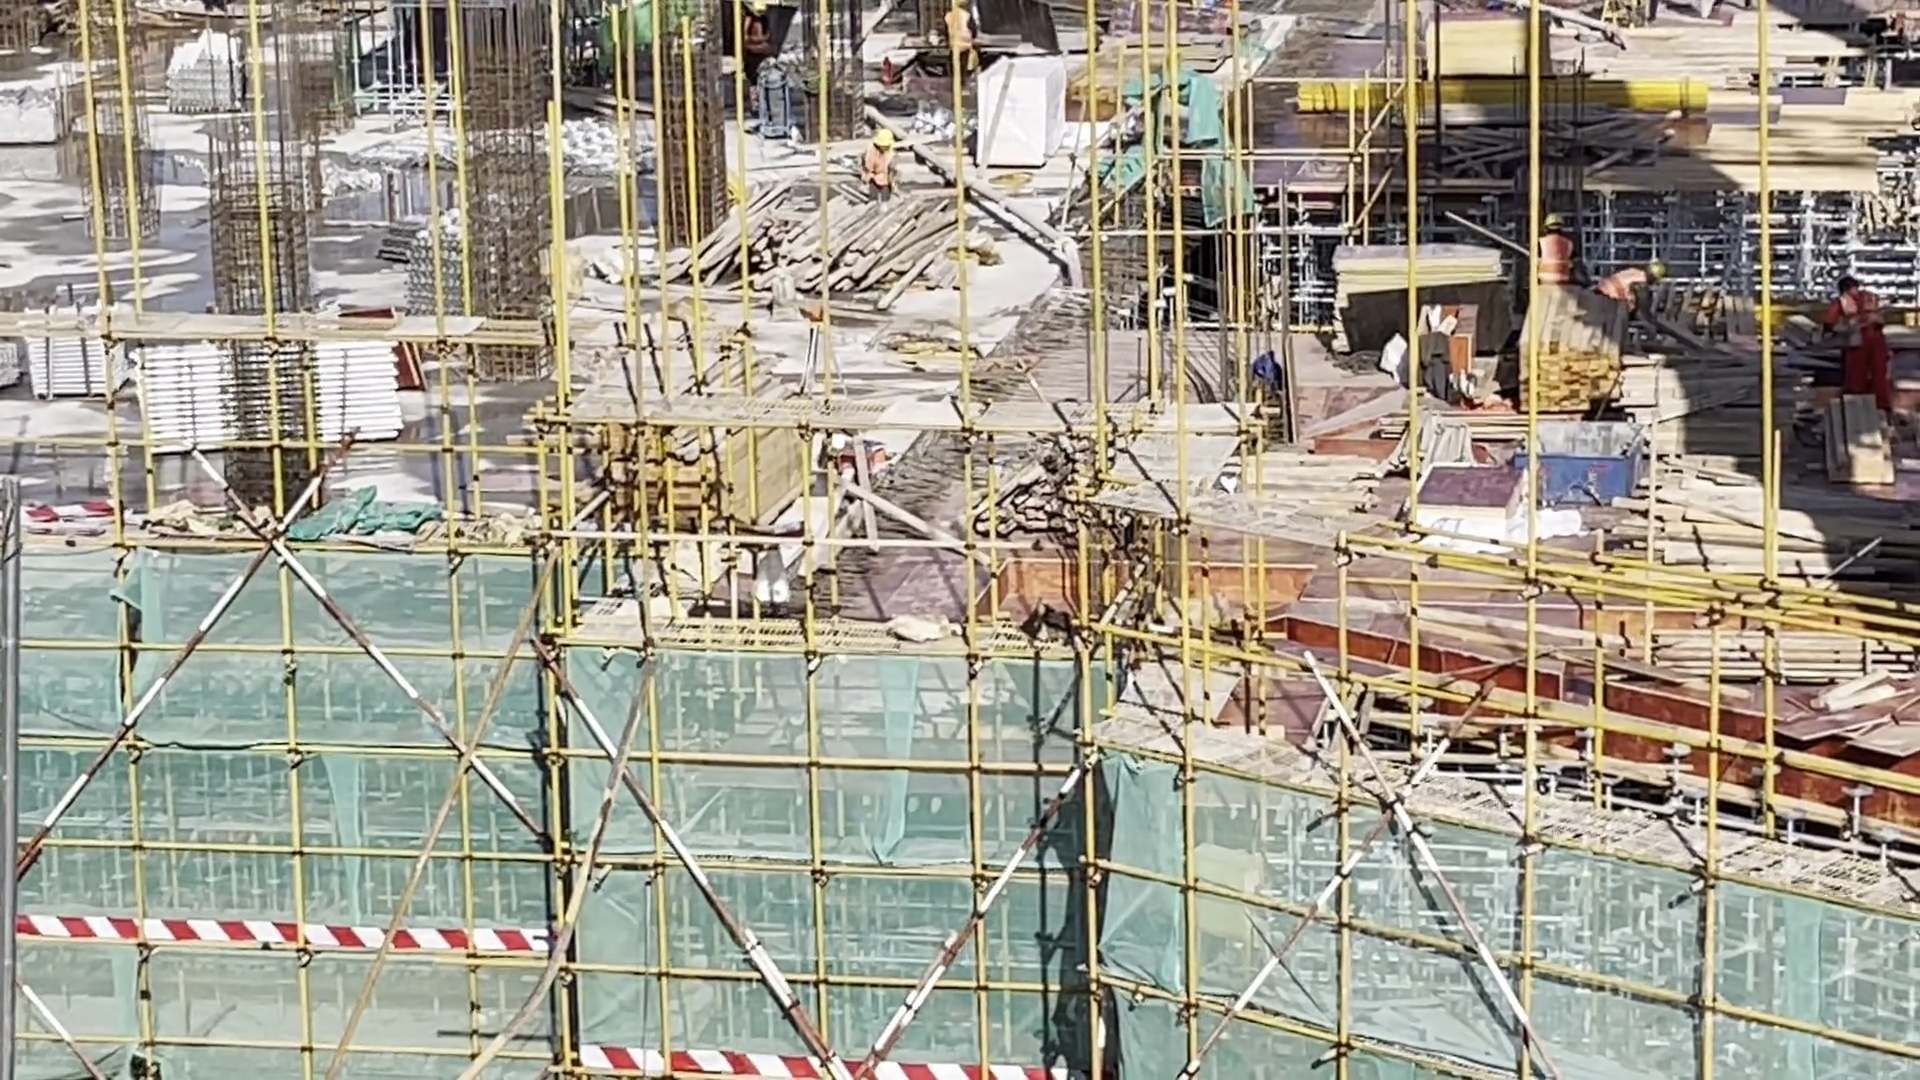helmet: (1539, 205, 1567, 233), (865, 130, 894, 153), (1644, 263, 1667, 286)
hopper: (1530, 415, 1647, 522)
person: (1799, 273, 1902, 432), (1594, 260, 1662, 337), (815, 427, 893, 485), (1527, 209, 1582, 286), (850, 124, 900, 206), (949, 1, 974, 86)
scaffold: (121, 323, 408, 457), (10, 281, 126, 411)
vest: (1835, 290, 1881, 351), (1595, 263, 1637, 306), (855, 150, 889, 195), (1535, 237, 1570, 279), (948, 12, 973, 51)
wood: (1628, 435, 1914, 608), (669, 165, 958, 319), (554, 366, 803, 536), (1641, 608, 1920, 707), (1486, 308, 1625, 424)
